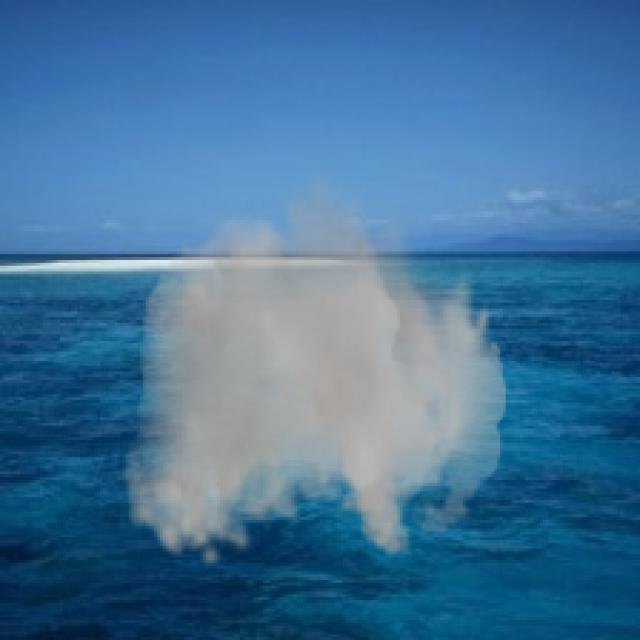smoke: (123, 163, 506, 568)
